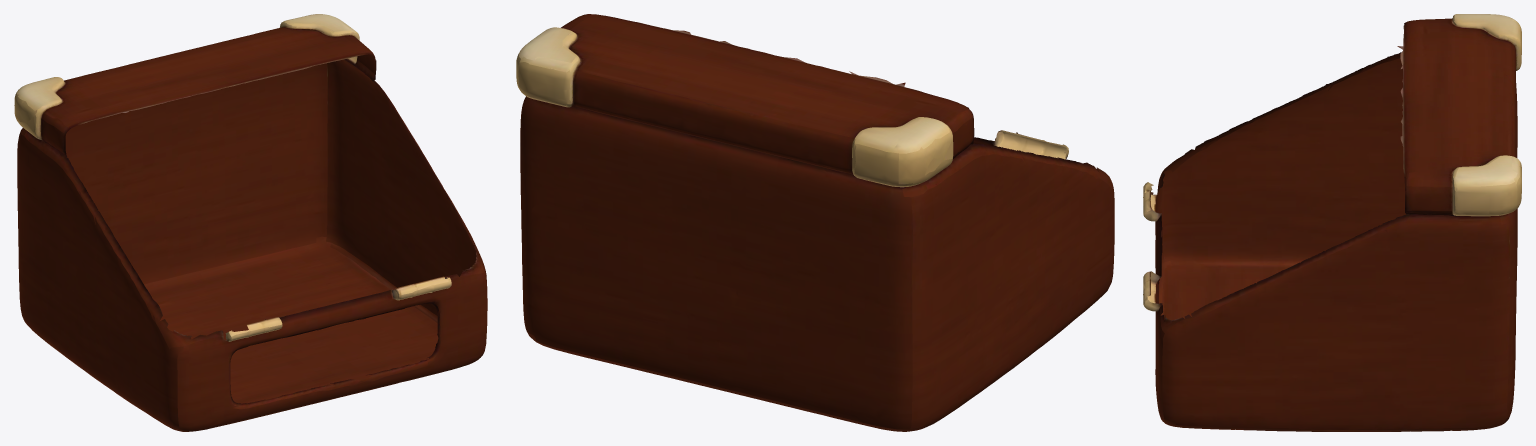
3 renders of one model, left to right at view 1: azimuth 30°, elevation 25°; view 2: azimuth 150°, elevation 25°; view 3: azimuth 270°, elevation 25°, orthographic. The views are drawn at different scales.
Parts seen in each view (by area): view 1: geometry_0; view 2: geometry_0; view 3: geometry_0.
Boxes of the visible parts, left/top/right/bottom form: geometry_0: left=14, top=14, right=487, bottom=431; geometry_0: left=516, top=14, right=1114, bottom=431; geometry_0: left=1143, top=14, right=1521, bottom=431.
Bounding box in the file's own units: 0.22 × 0.1527 × 0.204.
Materials: 1 (1 with a texture image).
